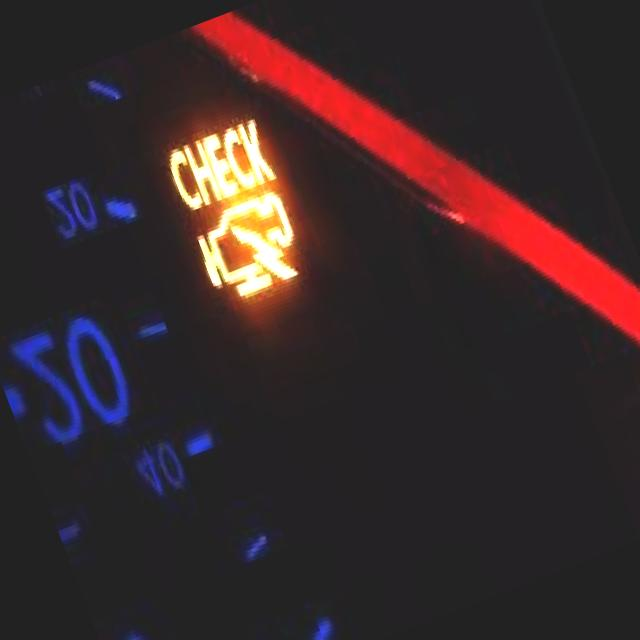kontrolka: (150, 106, 324, 322)
